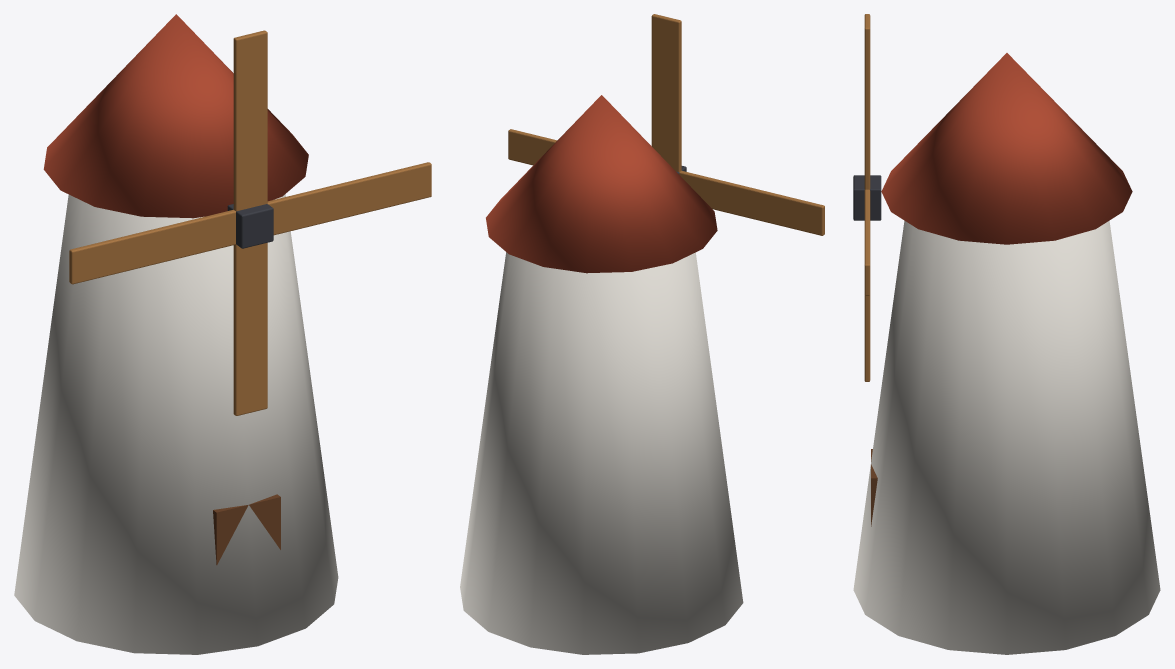
The model's file is windmill.glb.
3 views of the same model, side by side, from view 1: azimuth 30°, elevation 25°; view 2: azimuth 150°, elevation 25°; view 3: azimuth 270°, elevation 25° (orthographic). The views are drawn at different scales.
Visible parts, largest first — view 1: tower, blades; view 2: tower, blades; view 3: tower, blades.
Part boxes in pixels (x1,y1,x2,y2): tower: (14,14,338,654); blades: (69,30,431,415); tower: (460,95,743,654); blades: (508,14,824,235); tower: (853,53,1160,654); blades: (853,14,881,381).
Bounding box in the file's own units: 5.6 × 9 × 4.4.
